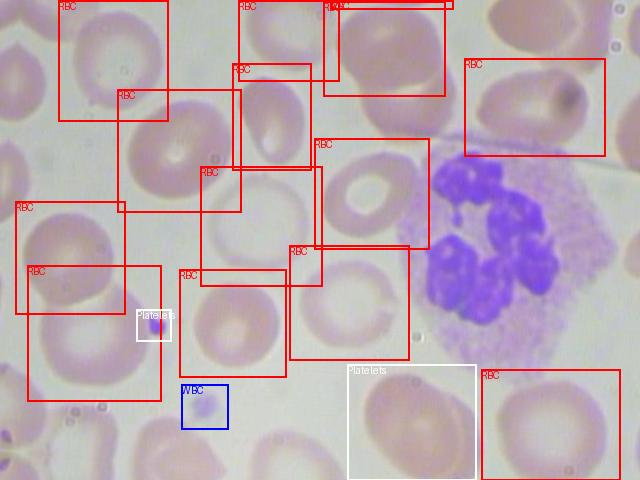Platelets: (347, 364, 476, 480), (136, 309, 171, 341)
RBC: (27, 265, 161, 401), (481, 369, 620, 480), (117, 89, 241, 212), (200, 166, 322, 286), (464, 58, 605, 156), (289, 245, 409, 360), (58, 0, 168, 121), (314, 138, 429, 249), (15, 201, 125, 314), (323, 1, 445, 96), (179, 269, 286, 377), (232, 63, 311, 170), (238, 0, 339, 81), (331, 0, 453, 9)
WBC: (181, 384, 228, 429)
